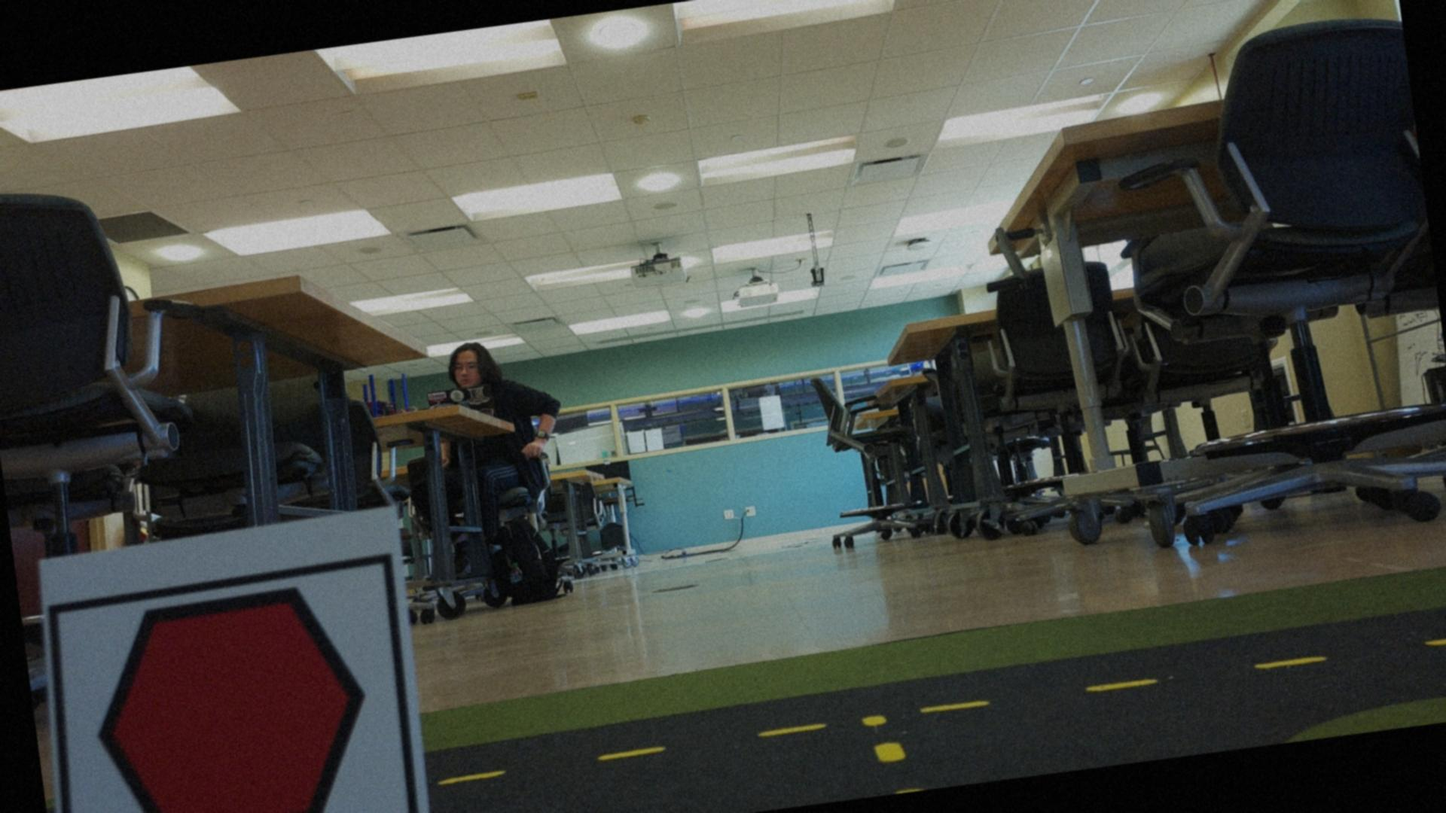stop: (52, 562, 426, 812)
yellowline: (441, 626, 1445, 784), (857, 709, 914, 770)
